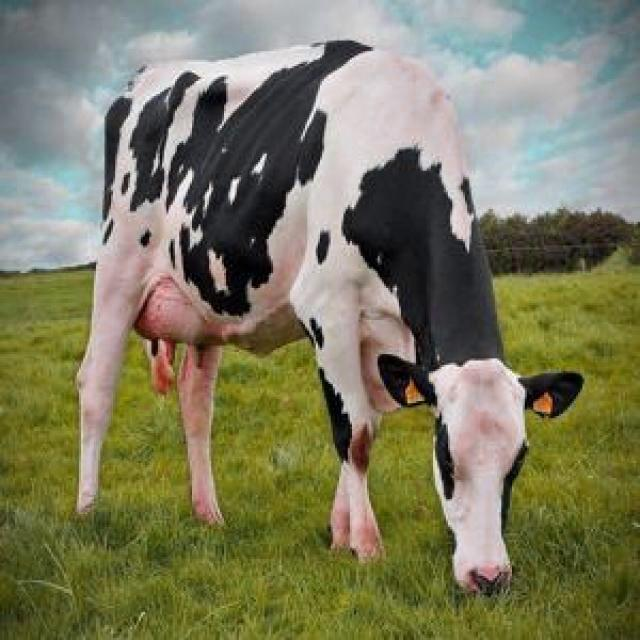cow: (78, 41, 581, 589)
